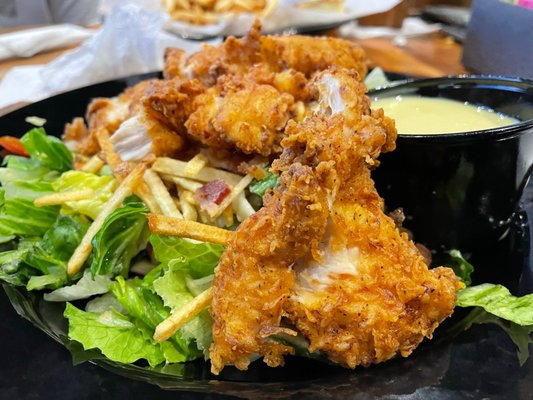soup: (11, 24, 468, 389)
